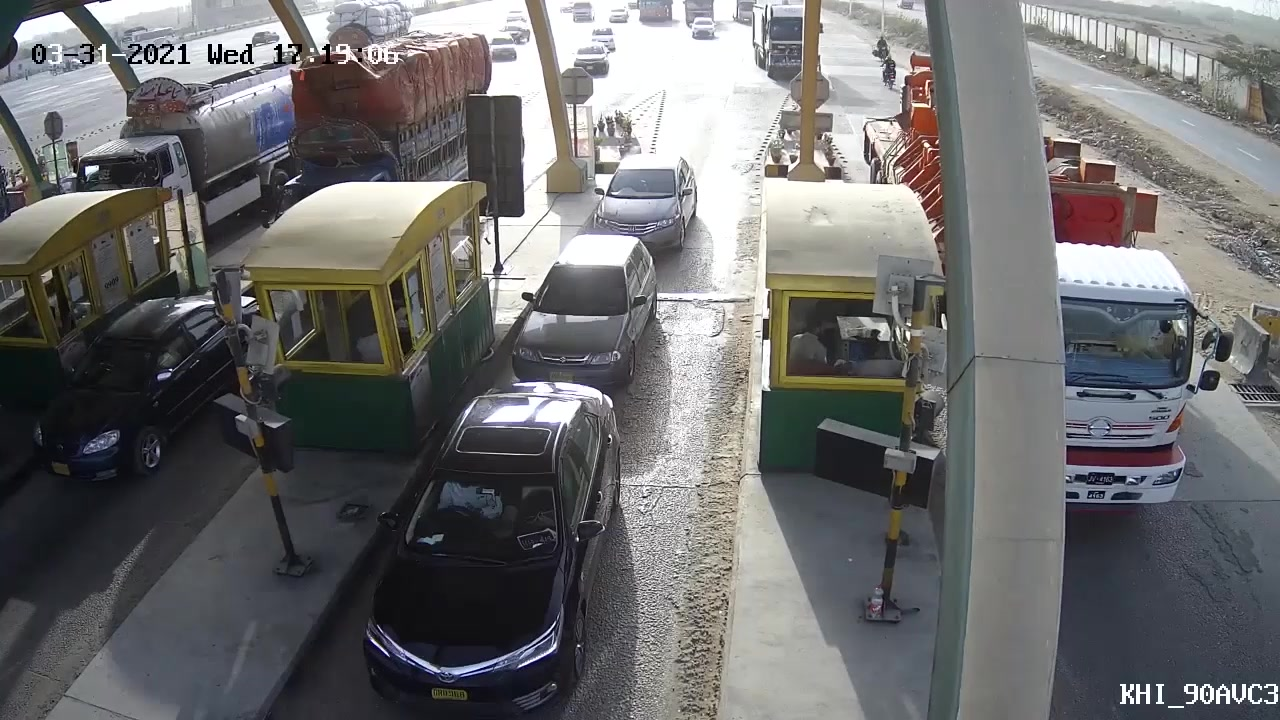F1: (510, 238, 659, 387), (592, 152, 698, 252)
